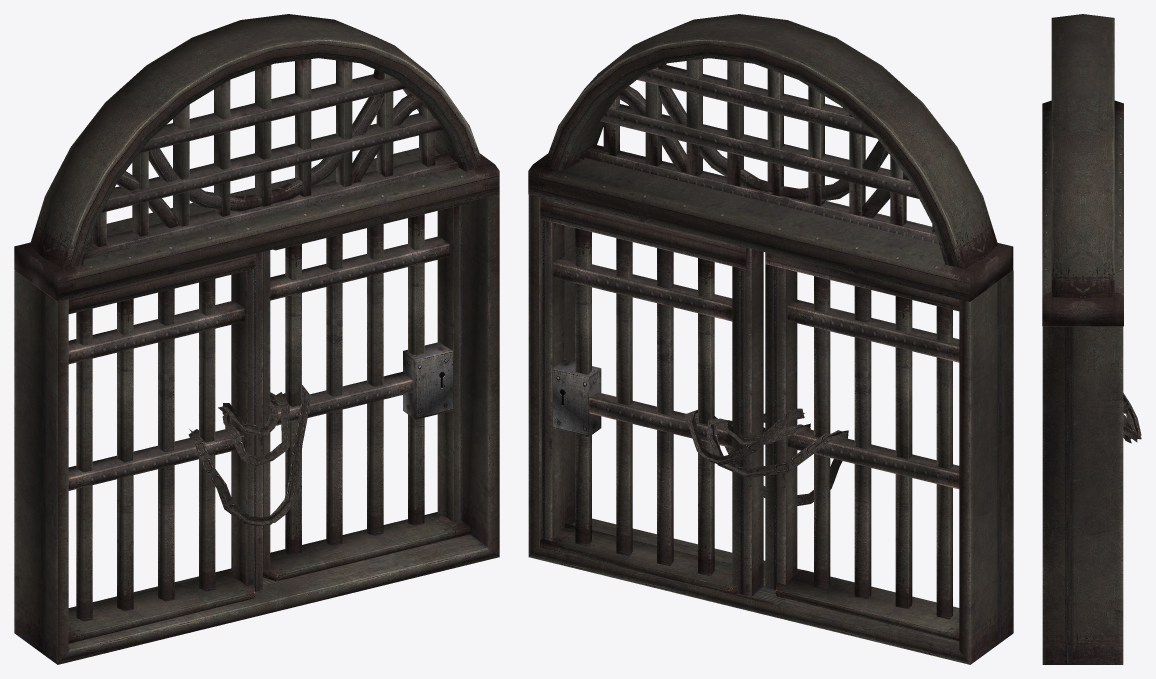
The model's file is Door3.fbx.
The picture shows the model from 3 angles, left to right: view 1: azimuth 30°, elevation 25°; view 2: azimuth 150°, elevation 25°; view 3: azimuth 270°, elevation 25°; orthographic projection. The views are drawn at different scales.
Parts seen in each view (by area): view 1: LV_Nigraturis_Object_A_IronDoor01_SM_HSH.001; view 2: LV_Nigraturis_Object_A_IronDoor01_SM_HSH.001; view 3: LV_Nigraturis_Object_A_IronDoor01_SM_HSH.001.
Boxes of the visible parts, bbox=[...] form: LV_Nigraturis_Object_A_IronDoor01_SM_HSH.001: bbox=[14, 14, 499, 664]; LV_Nigraturis_Object_A_IronDoor01_SM_HSH.001: bbox=[528, 14, 1013, 664]; LV_Nigraturis_Object_A_IronDoor01_SM_HSH.001: bbox=[1042, 14, 1141, 664].
Bounding box in the file's own units: 1.2 × 1.47 × 0.2504.
1 material, 1 textured.
